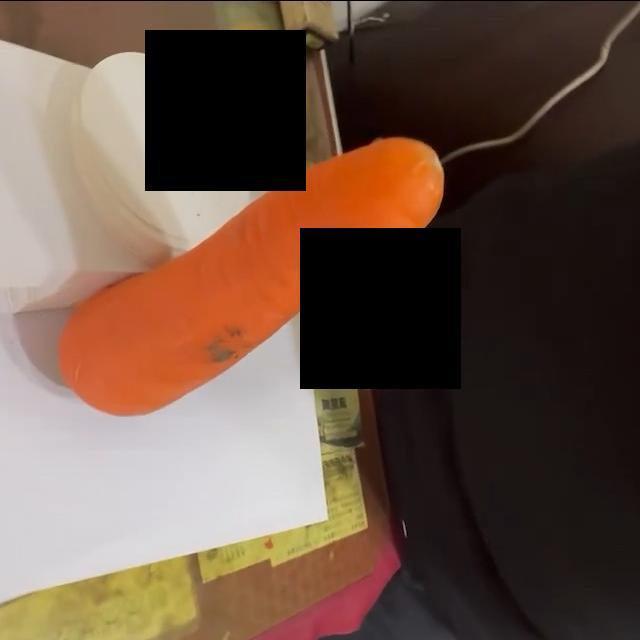carrot: (58, 135, 448, 420)
